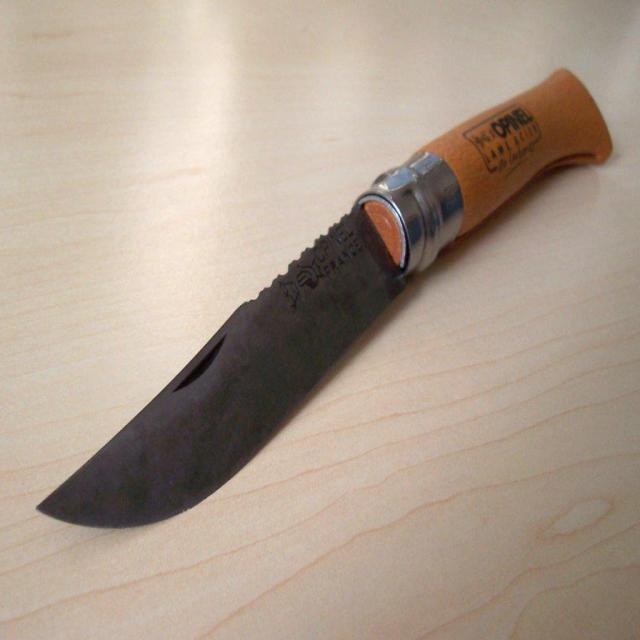Knife: (39, 70, 611, 527)
